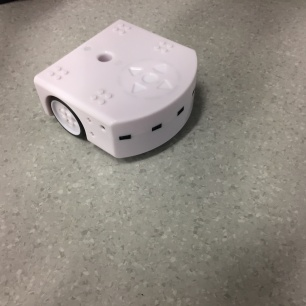thymio: (26, 17, 208, 162)
